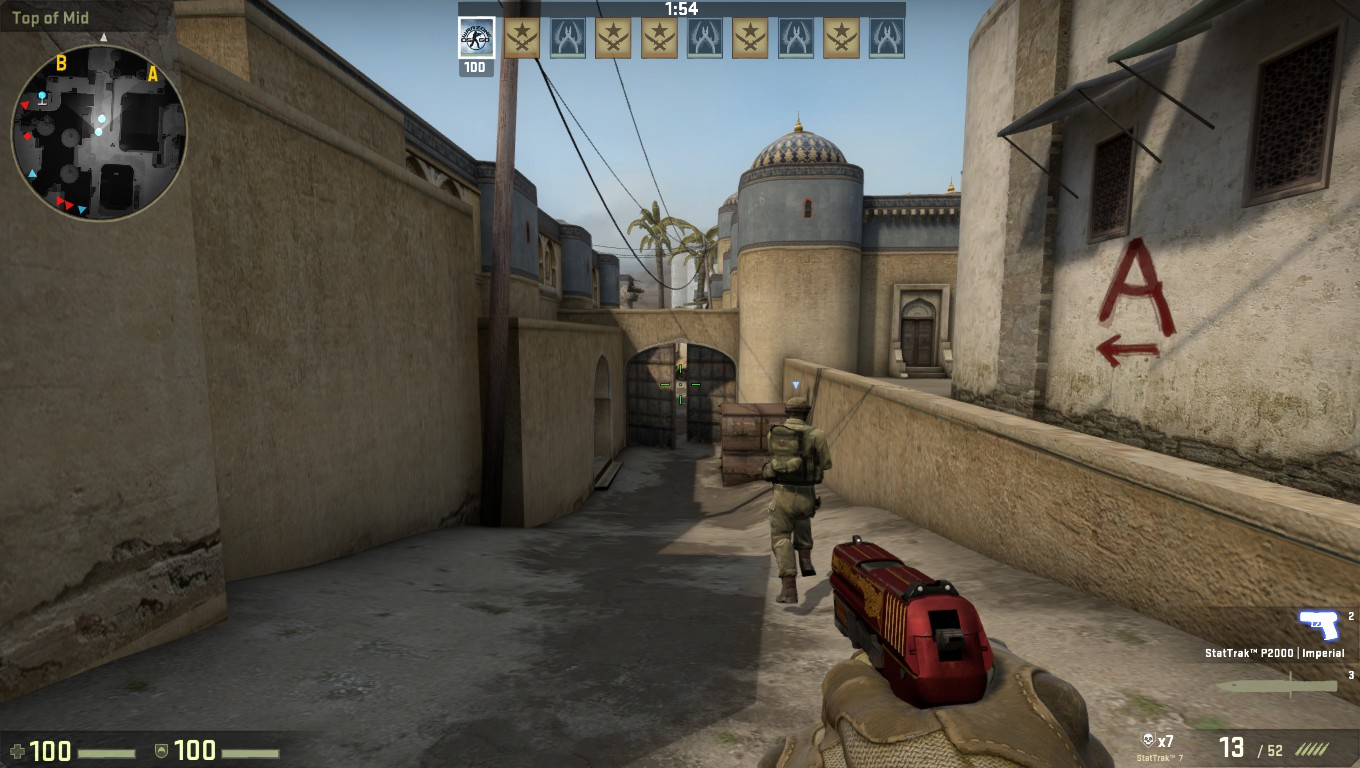c: (759, 392, 830, 604)
ch: (781, 394, 814, 431)
